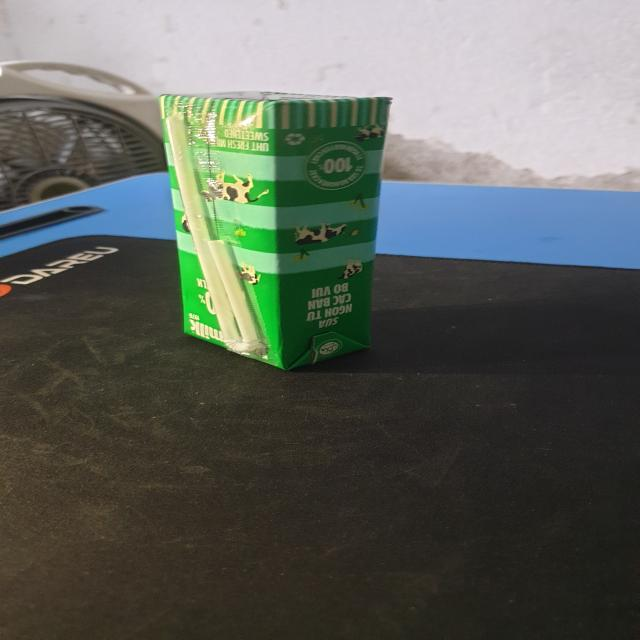Vina: (156, 90, 388, 369)
